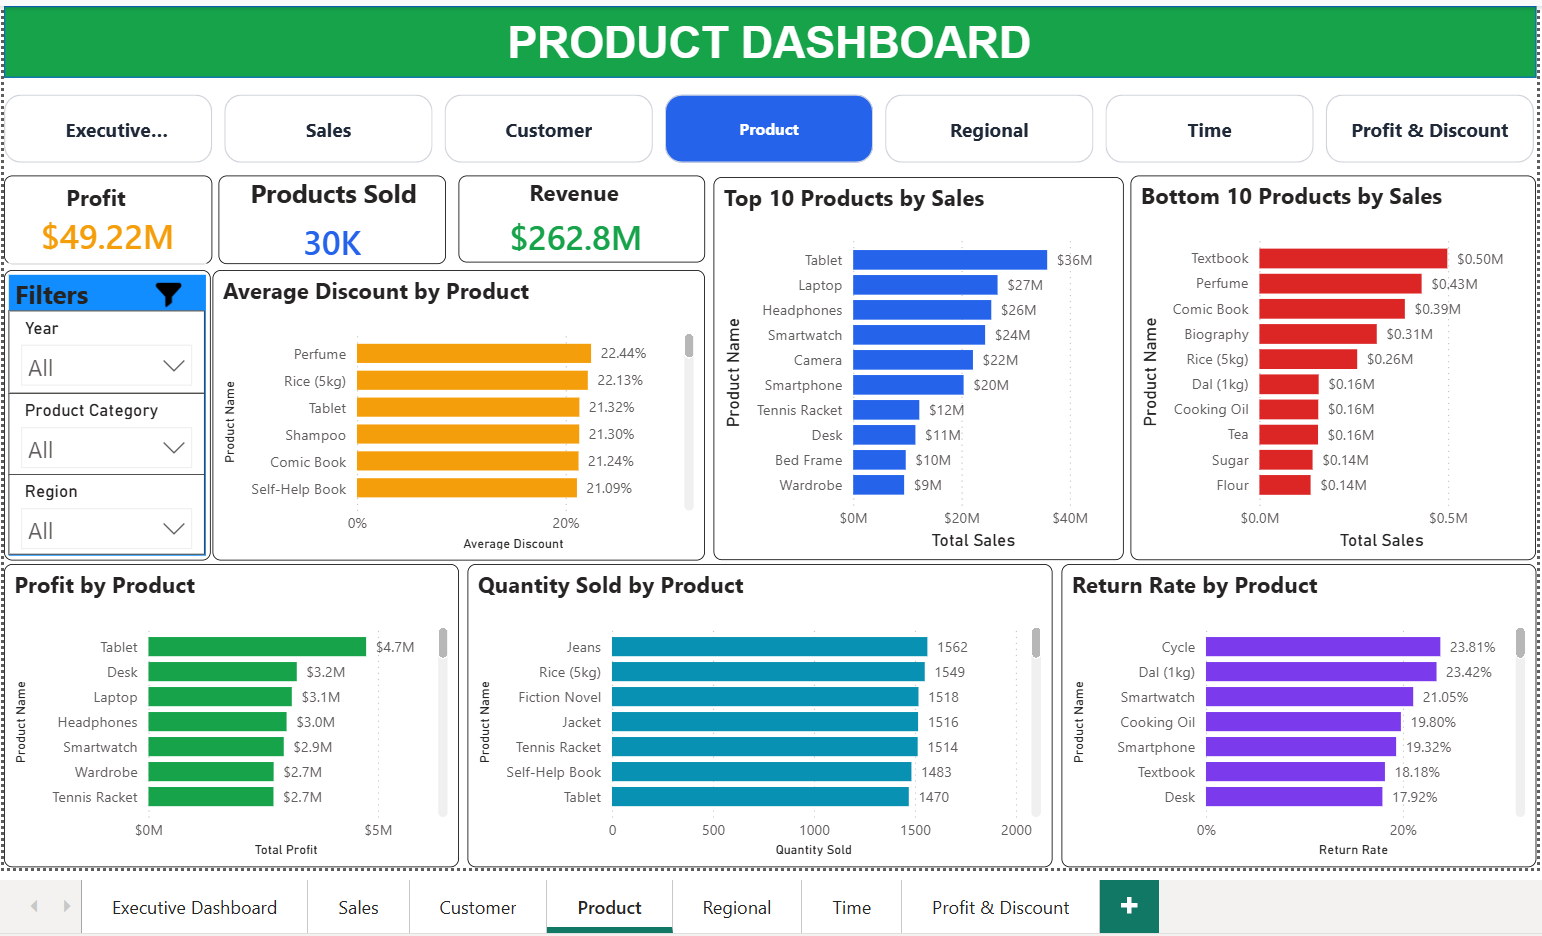

What the dashboard file says about the page in this screenshot:
{"tool":"powerbi","page":{"name":"Product","canvas":[1280,720],"ordinal":3},"visuals":[{"type":"shape","box":[0,0,1280,60],"z":0},{"type":"textbox","box":[395,3.3,489,71],"z":1000},{"type":"clusteredBarChart","title":"Top 10 Products by Sales","fields":{"Category":["retail_sales_final.product_name"],"Y":["Measures (2).Total Sales"]},"box":[592.9,142.9,342.9,320],"z":2000},{"type":"clusteredBarChart","title":"Bottom 10 Products by Sales","fields":{"Category":["retail_sales_final.product_name"],"Y":["Measures (2).Total Sales"]},"box":[941.4,141.4,338.6,321.4],"z":3000},{"type":"clusteredBarChart","title":"Quantity Sold by Product","fields":{"Category":["retail_sales_final.product_name"],"Y":["Measures (2).Quantity Sold"]},"box":[387.5,466.7,488.3,253.3],"z":4000},{"type":"clusteredBarChart","title":"Profit by Product","fields":{"Category":["retail_sales_final.product_name"],"Y":["Measures (2).Total Profit"]},"box":[0,466.7,380,253.3],"z":5000},{"type":"clusteredBarChart","title":"Average Discount by Product","fields":{"Category":["retail_sales_final.product_name"],"Y":["Measures (2).Average Discount"]},"box":[174.3,220,411.4,242.9],"z":6000},{"type":"clusteredBarChart","title":"Return Rate by Product","fields":{"Category":["retail_sales_final.product_name"],"Y":["Measures (2).Return Rate By Product"]},"box":[883.3,466.7,396.7,253.3],"z":7000},{"type":"shape","box":[0,141.4,174.3,74.3],"z":8000},{"type":"shape","box":[0,220,172.9,242.9],"z":10000},{"type":"slicer","title":"Year","fields":{"Values":["DateTable.Year"]},"box":[4.3,254.3,164,69],"z":11000},{"type":"slicer","title":"Category","fields":{"Values":["retail_sales_final.product_category"]},"box":[4.3,322.9,164,69],"z":12000},{"type":"slicer","title":"Region","fields":{"Values":["retail_sales_final.region"]},"box":[4.3,391.4,164,67],"z":13000},{"type":"image","box":[111.4,228.6,51.7,25],"z":14000},{"type":"textbox","box":[4.3,220,71.7,41.7],"z":15000},{"type":"cardVisual","fields":{"Data":["Measures (2).Total Profit"]},"box":[4.3,165.7,165,50],"z":16000},{"type":"textbox","box":[191.4,141.4,167,48],"z":17000},{"type":"textbox","box":[28.6,141.4,96,35],"z":18000},{"type":"cardVisual","fields":{"Data":["Measures (2).Products Sold"]},"box":[225.7,170,97,50],"z":19000},{"type":"shape","box":[178.6,141.4,190,74.3],"z":20000},{"type":"cardVisual","fields":{"Data":["Measures (2).Revenue"]},"box":[395.7,167.1,163,50],"z":20125},{"type":"shape","box":[380,141.4,205.7,72.9],"z":20187},{"type":"textbox","box":[420,142.9,113,36],"z":20250},{"type":"pageNavigator","box":[0,74.3,1280,57.1],"z":23000}]}

Visuals, with their boxes on the page's 1280x720 design canvas (x1, y1, x2, y2). These are canvas units, not pixel positions in the 1542x936 screenshot, which may show the page scaled, cropped or inside an application window:
shape: locate(0, 0, 1280, 60)
textbox: locate(395, 3, 884, 74)
"Top 10 Products by Sales" clusteredBarChart: locate(593, 143, 936, 463)
"Bottom 10 Products by Sales" clusteredBarChart: locate(941, 141, 1280, 463)
"Quantity Sold by Product" clusteredBarChart: locate(388, 467, 876, 720)
"Profit by Product" clusteredBarChart: locate(0, 467, 380, 720)
"Average Discount by Product" clusteredBarChart: locate(174, 220, 586, 463)
"Return Rate by Product" clusteredBarChart: locate(883, 467, 1280, 720)
shape: locate(0, 141, 174, 216)
shape: locate(0, 220, 173, 463)
"Year" slicer: locate(4, 254, 168, 323)
"Category" slicer: locate(4, 323, 168, 392)
"Region" slicer: locate(4, 391, 168, 458)
image: locate(111, 229, 163, 254)
textbox: locate(4, 220, 76, 262)
cardVisual - Measures (2).Total Profit: locate(4, 166, 169, 216)
textbox: locate(191, 141, 358, 189)
textbox: locate(29, 141, 125, 176)
cardVisual - Measures (2).Products Sold: locate(226, 170, 323, 220)
shape: locate(179, 141, 369, 216)
cardVisual - Measures (2).Revenue: locate(396, 167, 559, 217)
shape: locate(380, 141, 586, 214)
textbox: locate(420, 143, 533, 179)
pageNavigator: locate(0, 74, 1280, 131)
